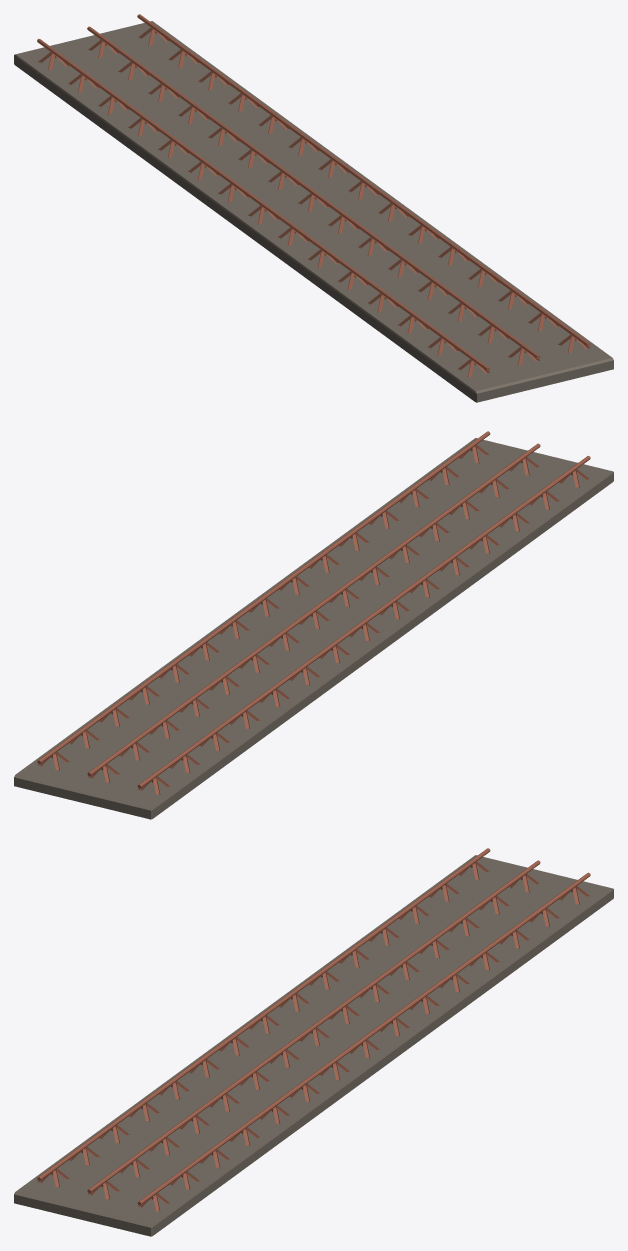
The picture shows the model from 3 angles, top to bottom: view 1: azimuth 30°, elevation 25°; view 2: azimuth 150°, elevation 25°; view 3: azimuth 330°, elevation 25°; orthographic projection.
Parts seen in each view (by area): view 1: Decke 6; view 2: Decke 6; view 3: Decke 6.
Boxes of the visible parts, <box> form: Decke 6: <box>14,14,613,402</box>; Decke 6: <box>14,431,613,819</box>; Decke 6: <box>14,848,613,1236</box>.
Size of the model in its own units: 0.8275 by 0.146 by 4.8.
